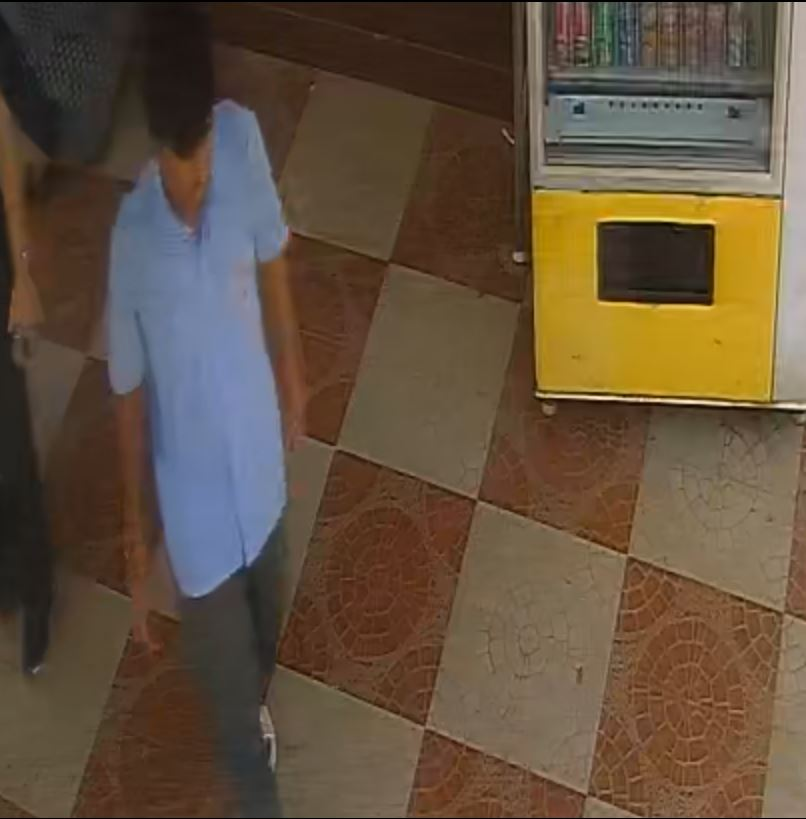intruder: (114, 11, 297, 819)
